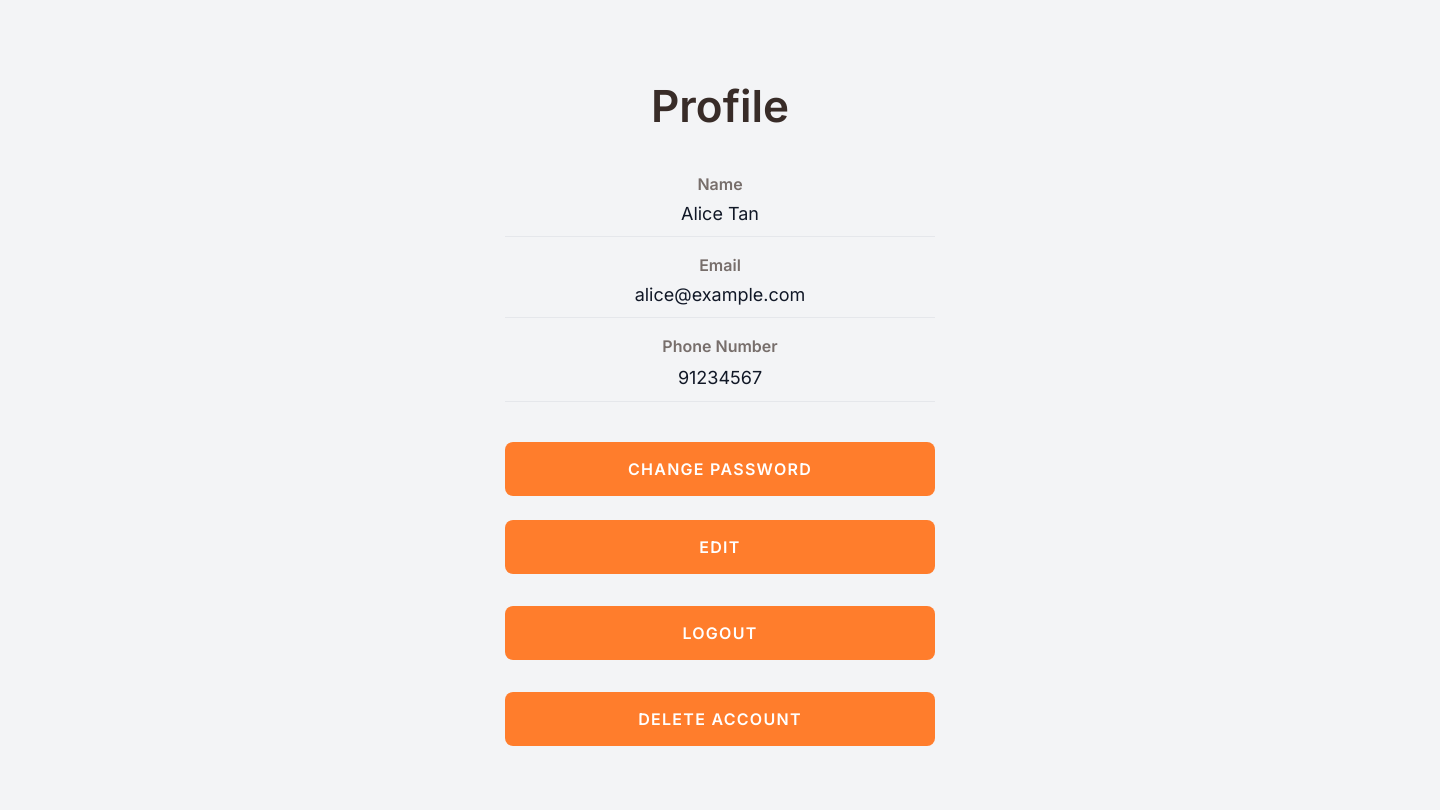
Test: Profile Page › shows server error when delete fails
This screenshot has width=1440, height=810.
Expected: the text "Profile" is shown, x1=651 y1=79 x2=789 y2=133
Step 1. Click the button "Delete Account" → (720, 719), box x1=505 y1=692 x2=935 y2=746
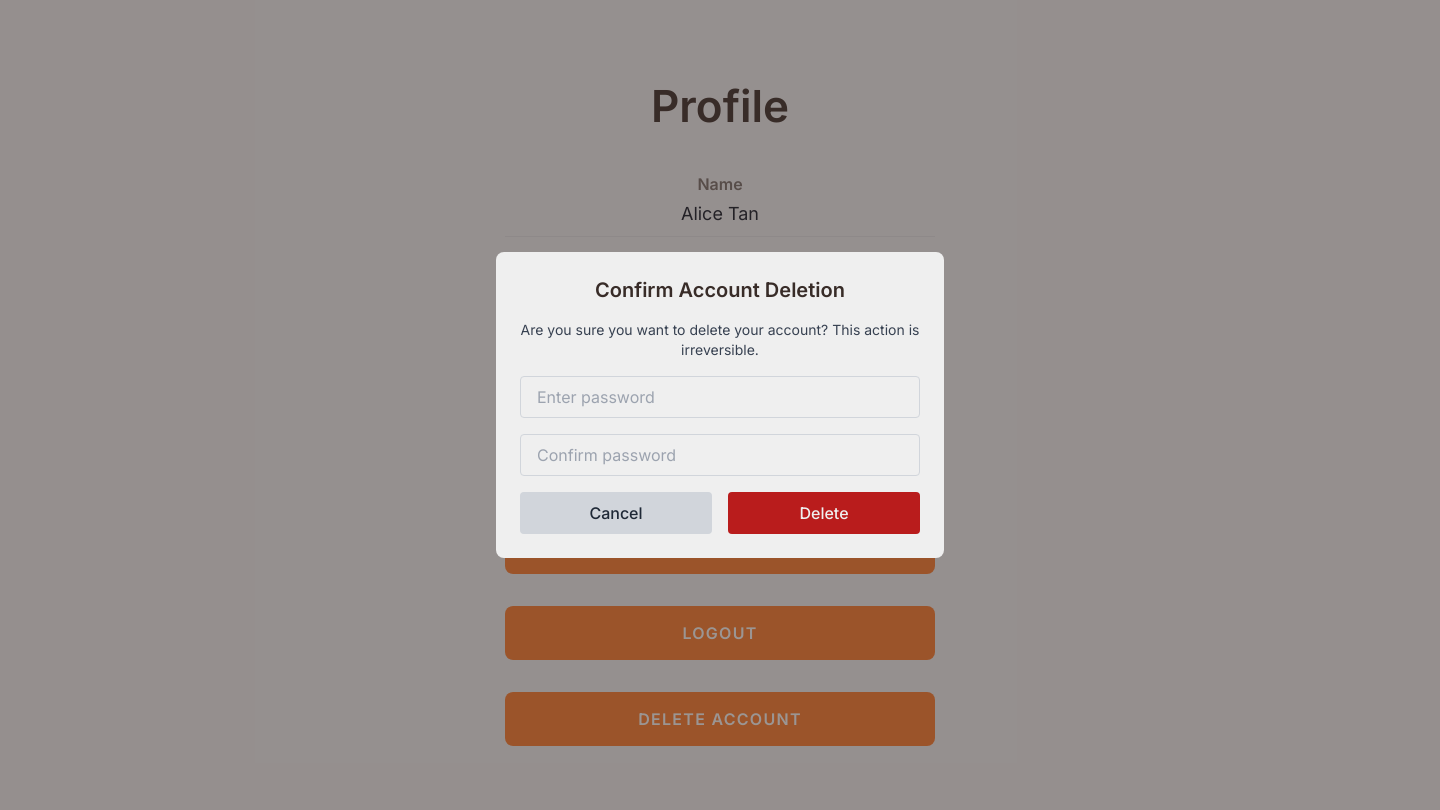
Expected: the heading "Confirm Account Deletion" is shown, x1=595 y1=278 x2=845 y2=302
Step 2. Type "Secret123!" into the password field with placeholder "Enter password" → (720, 397), box x1=520 y1=376 x2=920 y2=418
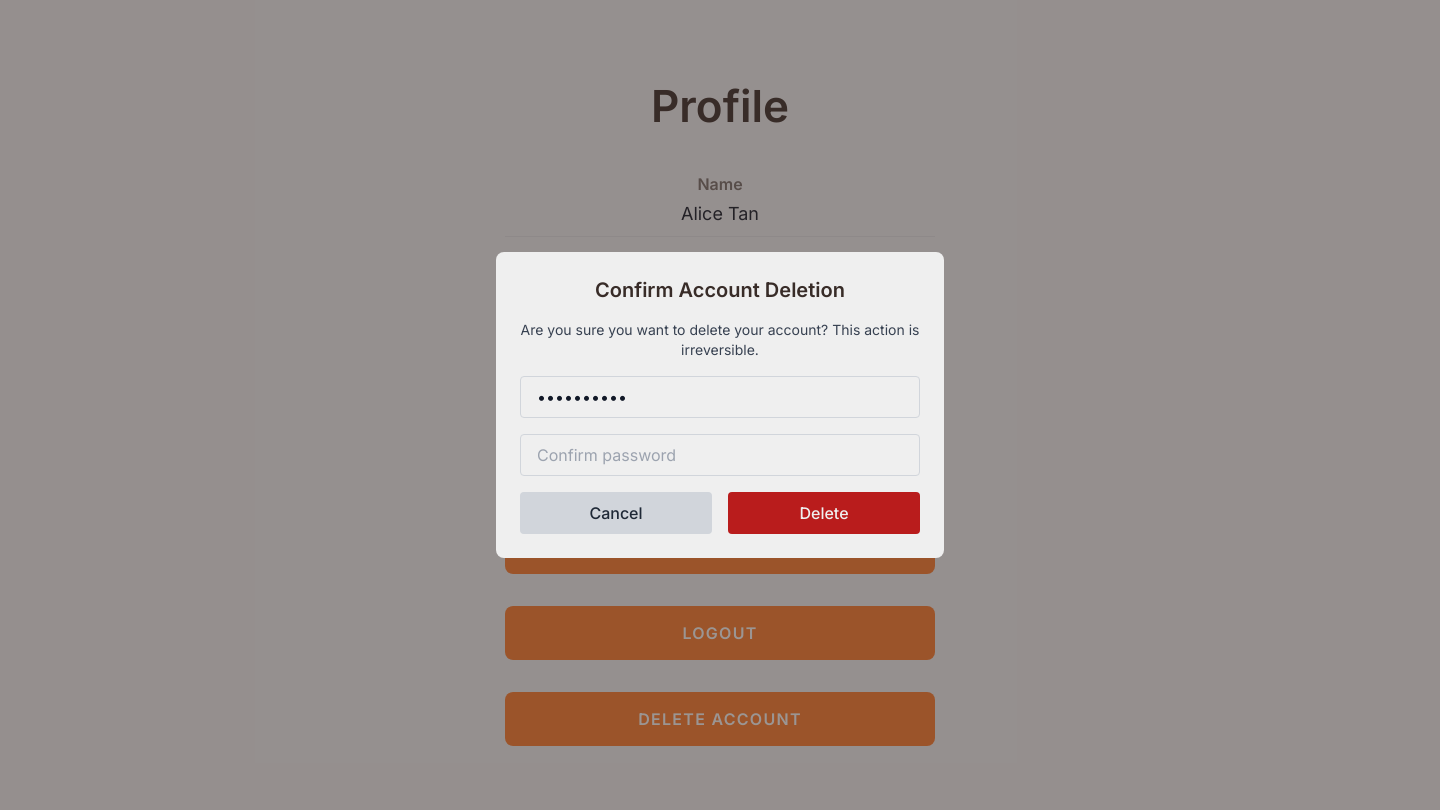
Step 3. Type "Secret123!" into the password field with placeholder "Confirm password" → (720, 455), box x1=520 y1=434 x2=920 y2=476
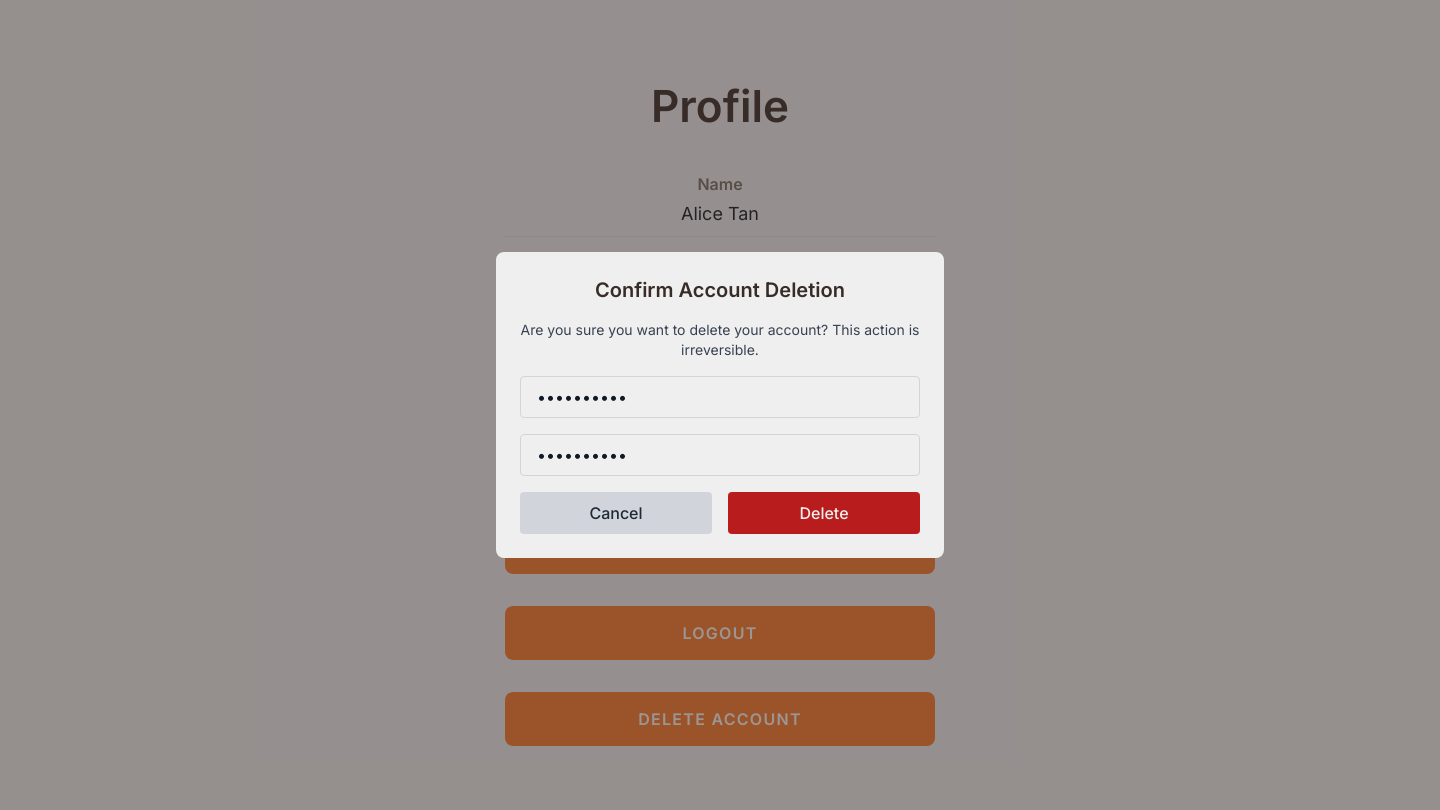
Step 4. Click the button "Delete" → (824, 513), box x1=728 y1=492 x2=920 y2=534
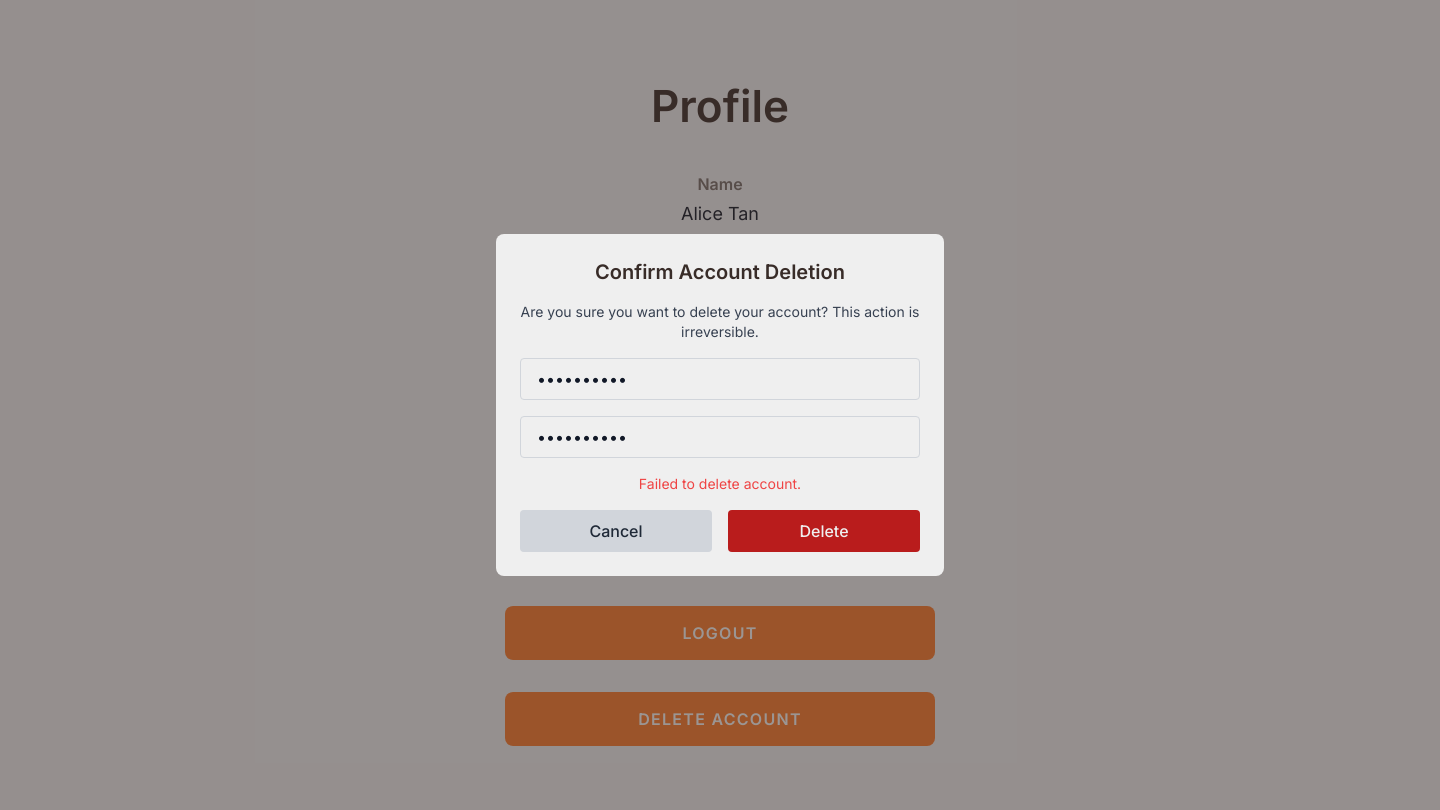
Expected: the heading "Confirm Account Deletion" is shown, x1=595 y1=260 x2=845 y2=284
Expected: the text "Failed to delete account." is shown, x1=639 y1=475 x2=801 y2=492
